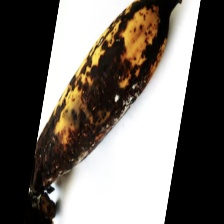banana: (20, 47, 175, 198)
